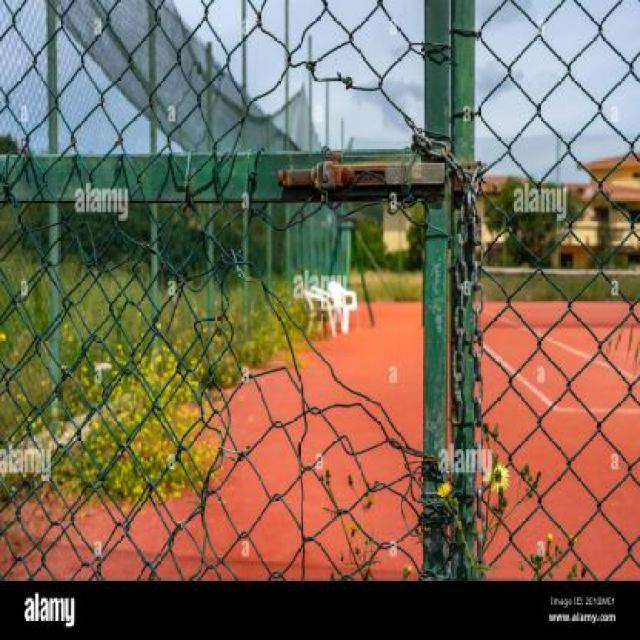fence line: (226, 55, 474, 466)
